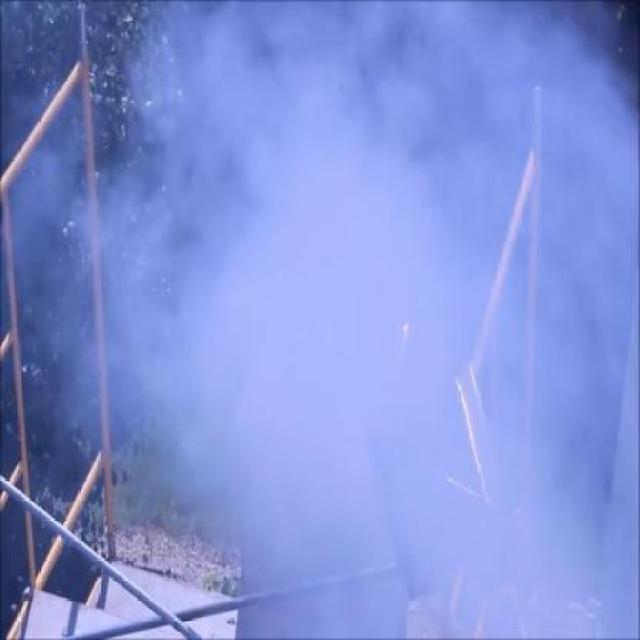smoke: (343, 13, 628, 589), (120, 22, 391, 530)
